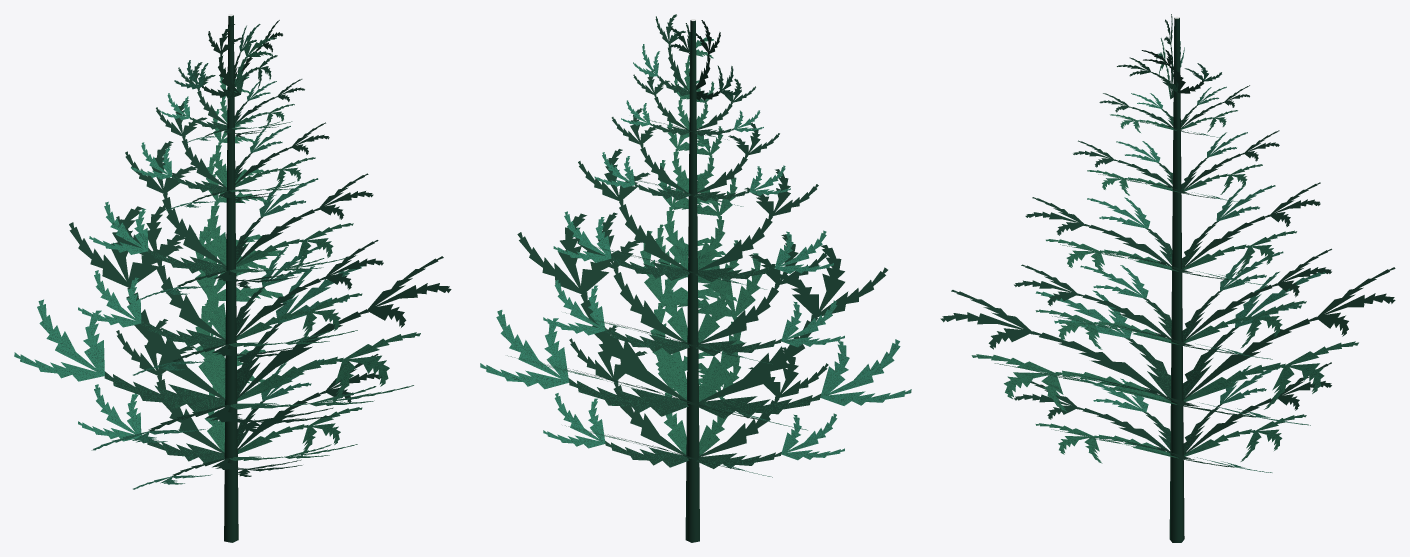
Rendered from pine.dae.
3 views of the same model, side by side, from view 1: azimuth 30°, elevation 25°; view 2: azimuth 150°, elevation 25°; view 3: azimuth 270°, elevation 25° (orthographic).
Visible parts, largest first — view 1: branch (×37), group_0; view 2: branch (×38), group_0; view 3: branch (×27), group_0.
Boxes of the visible parts, bbox=[...] form: branch (×37): bbox=[14, 24, 451, 463]; group_0: bbox=[224, 15, 238, 542]; branch (×38): bbox=[480, 14, 911, 468]; group_0: bbox=[685, 20, 699, 542]; branch (×27): bbox=[940, 140, 1395, 463]; group_0: bbox=[1169, 18, 1184, 542].
Size of the model in its own units: 81.78 by 86.53 by 110.
